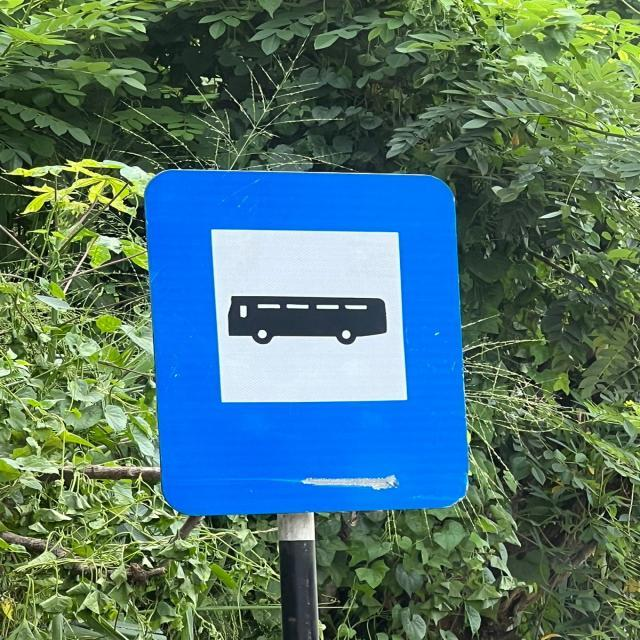bus_stop: (142, 166, 474, 520)
